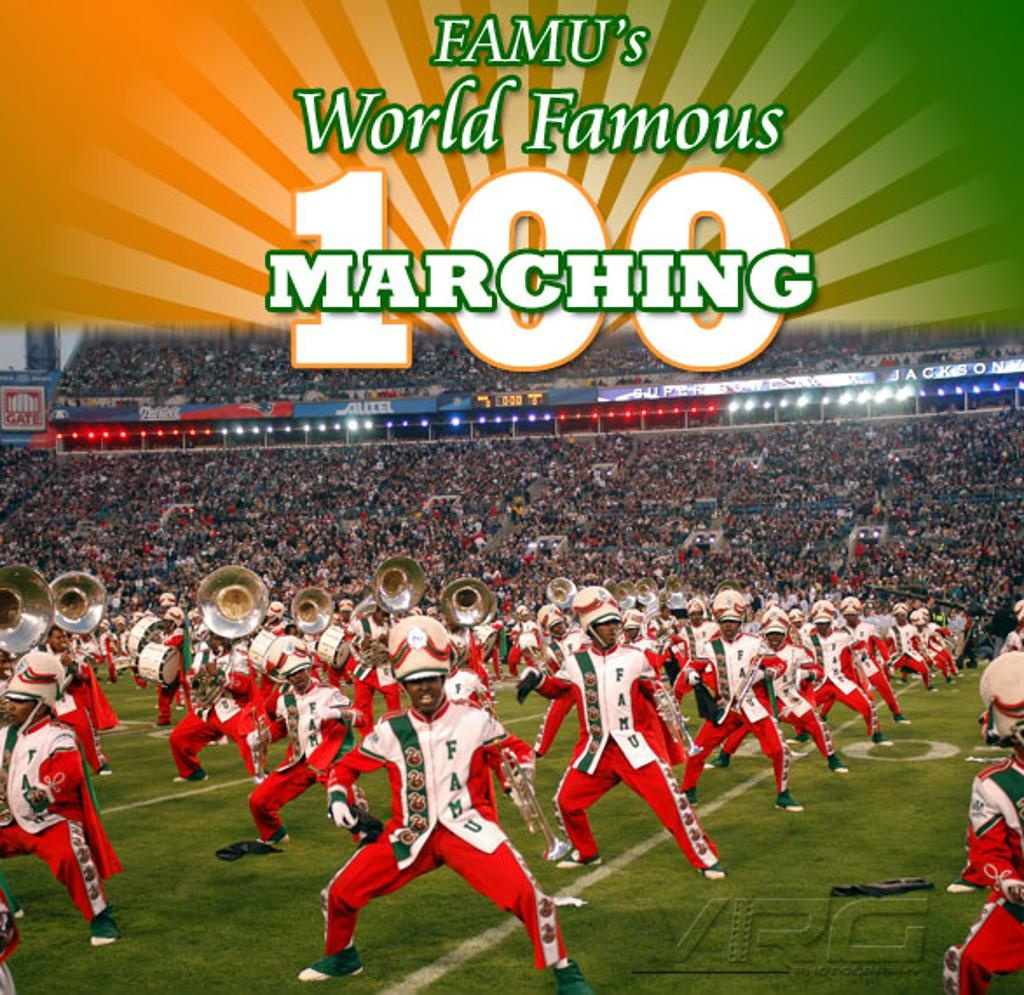human_face: (405, 668, 441, 712), (6, 690, 34, 724), (592, 614, 616, 646), (288, 662, 308, 688), (720, 615, 736, 637), (51, 630, 65, 650), (0, 653, 10, 679), (768, 629, 782, 647), (210, 630, 222, 650), (814, 616, 828, 632), (376, 609, 388, 624), (842, 610, 856, 622), (550, 620, 562, 632), (626, 624, 636, 638), (690, 610, 700, 624), (341, 608, 349, 620), (289, 624, 297, 636), (895, 610, 903, 622), (162, 618, 170, 628), (792, 617, 800, 627), (864, 605, 872, 615), (98, 625, 104, 633), (117, 622, 123, 630), (162, 604, 168, 612), (913, 599, 919, 607), (928, 597, 934, 605), (522, 612, 526, 620), (517, 611, 521, 619), (662, 608, 666, 616), (950, 610, 954, 618)
